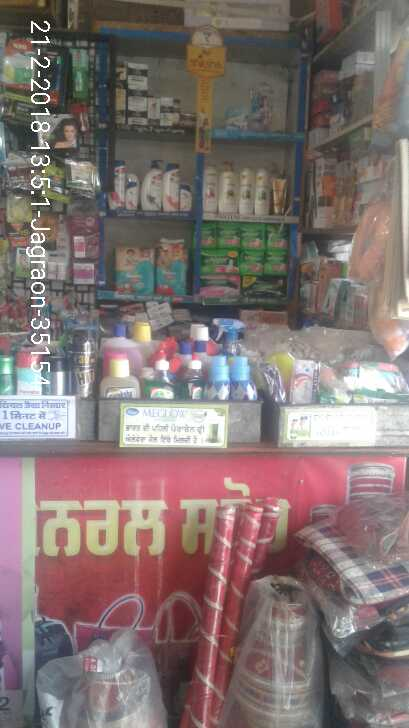venus: (251, 83, 275, 132), (225, 106, 248, 129)
